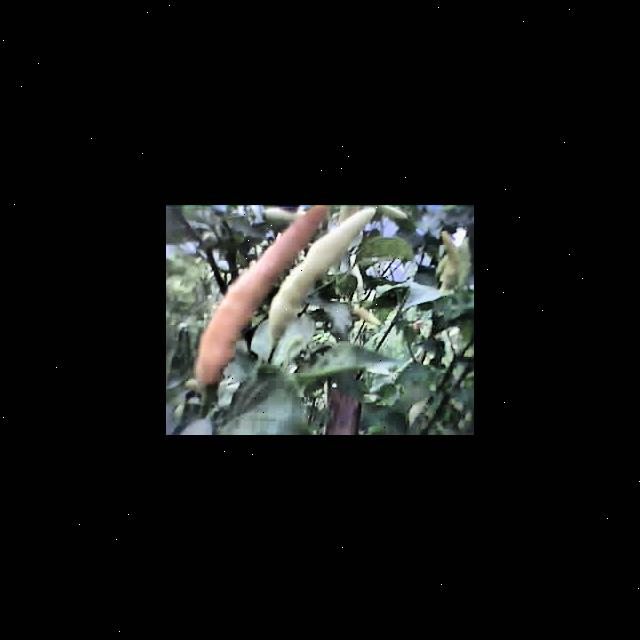Cabai: (194, 277, 265, 394)
